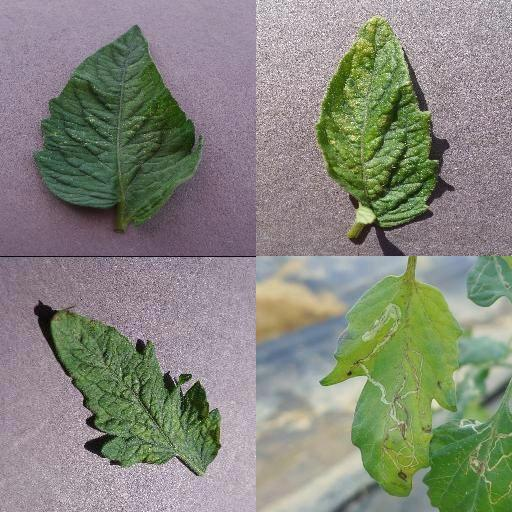Leaf Miner: (318, 275, 464, 497)
Mosaic Virus: (51, 306, 223, 470)
Spider Mites: (34, 23, 204, 225), (315, 15, 443, 231)
